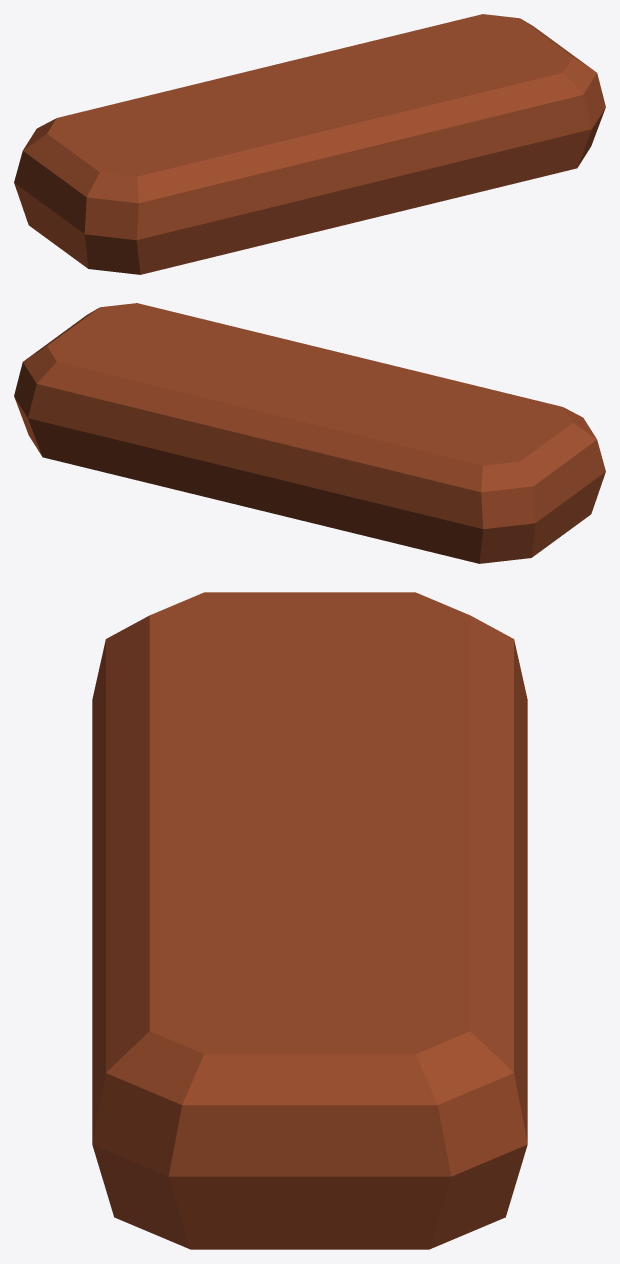
The model's file is BlockClayB.fbx.
3 views of the same model, one above another, from view 1: azimuth 30°, elevation 25°; view 2: azimuth 150°, elevation 25°; view 3: azimuth 270°, elevation 25° (orthographic). The views are drawn at different scales.
Visible parts, largest first — view 1: BlockClayB; view 2: BlockClayB; view 3: BlockClayB.
Boxes of the visible parts, x1=… form: BlockClayB: x1=14, y1=14, x2=605, y2=274; BlockClayB: x1=14, y1=303, x2=605, y2=563; BlockClayB: x1=92, y1=592, x2=527, y2=1249.
Size of the model in its own units: 87.47 by 14.5 by 31.64.
